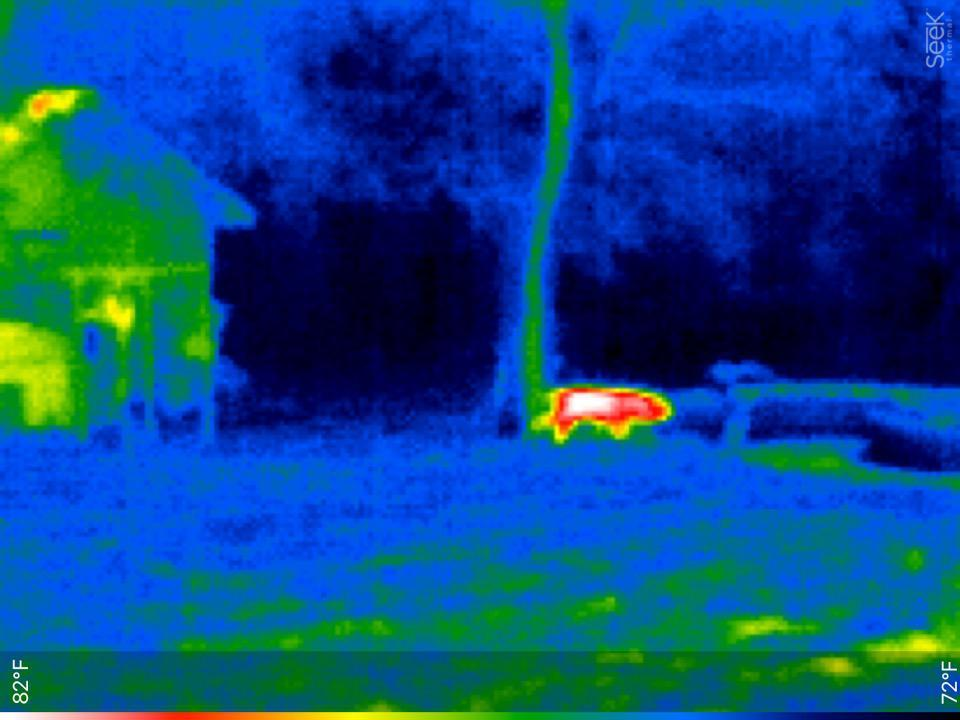dog: (521, 373, 680, 448)
